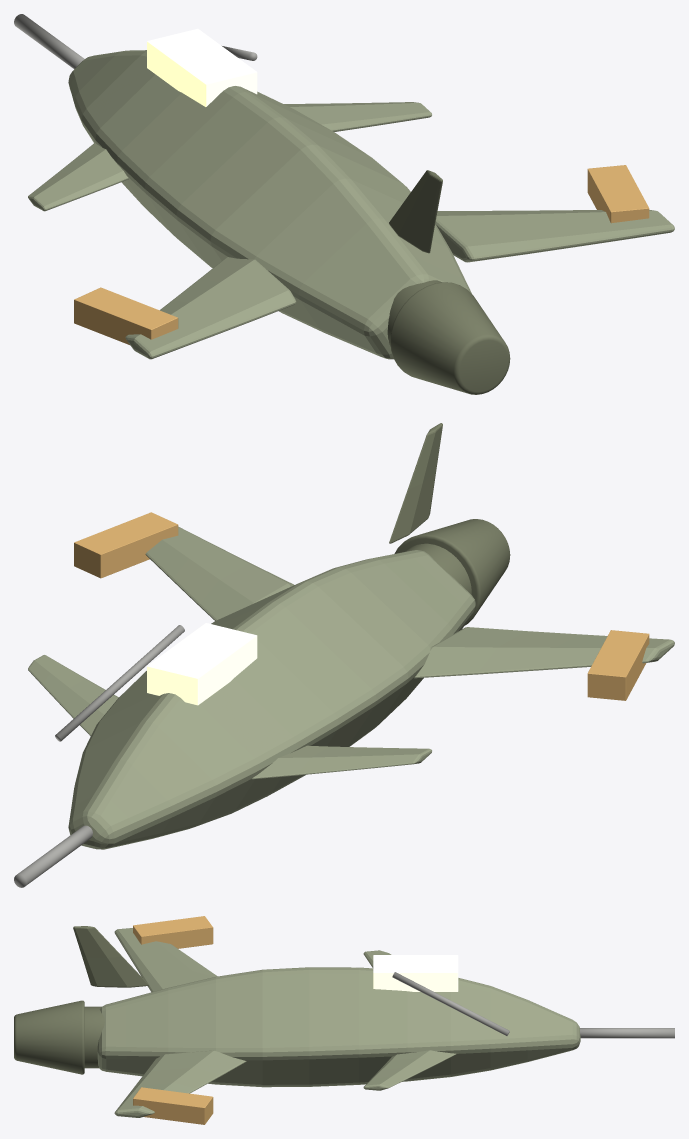
The model's file is astryn-vel-scout.glb.
The picture shows the model from 3 angles, top to bottom: view 1: azimuth 30°, elevation 25°; view 2: azimuth 150°, elevation 25°; view 3: azimuth 270°, elevation 25°; orthographic projection. The views are drawn at different scales.
Parts seen in each view (by area): view 1: hull, Cone, wing.003, wing.002, Cube.002, Cube, wing, wing.001, Cube.001, fin, Cylinder, Cylinder.002; view 2: hull, wing.002, wing.003, Cube.002, Cone, Cube.001, wing, Cube, wing.001, fin, Cylinder.001, Cylinder (+1 smaller); view 3: hull, Cone, wing.003, wing.002, Cube.002, fin, Cube.001, Cube, wing.001, Cylinder.002, Cylinder, Cylinder.001.
Part boxes in pixels (<box>): hull: <box>68,50,471,359</box>; Cone: <box>390,282,510,394</box>; wing.003: <box>435,210,674,262</box>; wing.002: <box>125,257,296,359</box>; Cube.002: <box>147,28,257,106</box>; Cube: <box>74,287,178,344</box>; wing: <box>28,143,128,211</box>; wing.001: <box>284,102,431,131</box>; Cube.001: <box>587,165,649,223</box>; fin: <box>389,170,442,253</box>; Cylinder: <box>14,14,84,68</box>; Cylinder.002: <box>387,280,441,346</box>; hull: <box>68,550,475,849</box>; wing.002: <box>414,627,674,678</box>; wing.003: <box>145,526,293,620</box>; Cube.002: <box>147,623,257,705</box>; Cone: <box>394,519,510,625</box>; Cube.001: <box>74,512,178,578</box>; wing: <box>252,745,431,779</box>; Cube: <box>587,630,649,700</box>; wing.001: <box>28,655,118,736</box>; fin: <box>389,423,442,543</box>; Cylinder.001: <box>55,625,184,741</box>; Cylinder: <box>14,825,92,887</box>; hull: <box>97,967,580,1087</box>; Cone: <box>14,1000,84,1074</box>; wing.003: <box>114,1050,246,1117</box>; wing.002: <box>114,928,217,992</box>; Cube.002: <box>373,955,458,991</box>; fin: <box>73,926,148,987</box>; Cube.001: <box>133,1087,213,1124</box>; Cube: <box>133,916,213,948</box>; wing.001: <box>363,1050,456,1090</box>; Cylinder.002: <box>84,1006,104,1068</box>; Cylinder: <box>580,1028,674,1038</box>; Cylinder.001: <box>392,972,509,1035</box>.
Size of the model in its own units: 1.93 by 0.6775 by 2.81.
